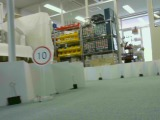speed_10: (31, 45, 53, 66)
